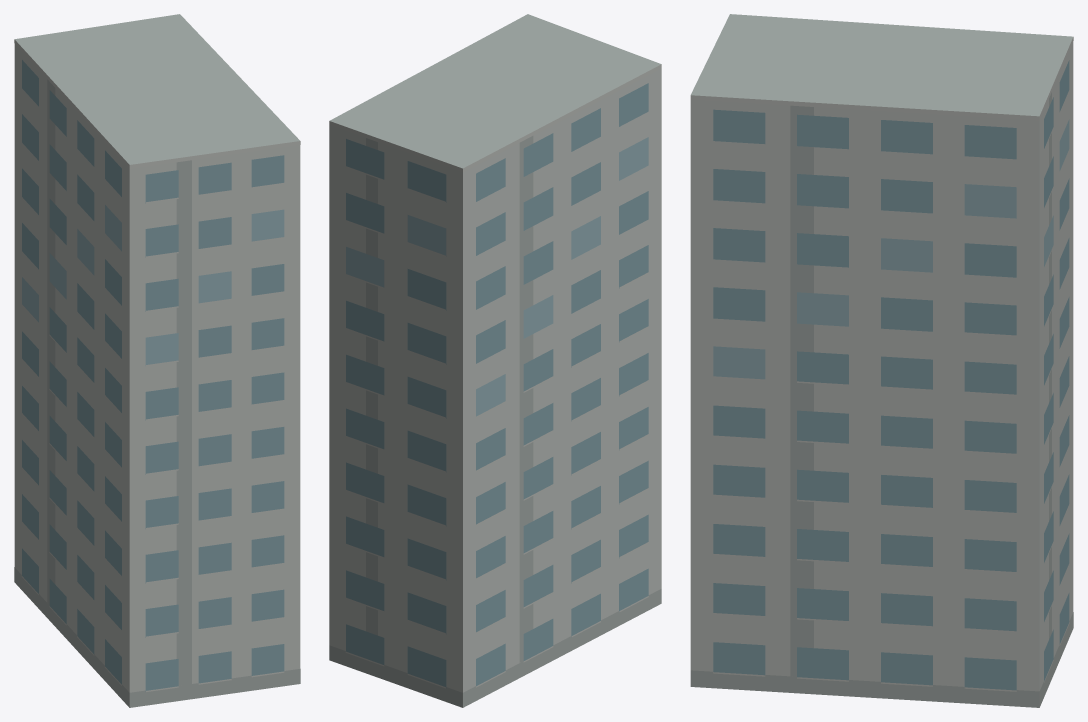
The model's file is residential-a5969568-1217-49d0-84b6-4d5bc961bded.glb.
3 views of the same model, side by side, from view 1: azimuth 30°, elevation 25°; view 2: azimuth 150°, elevation 25°; view 3: azimuth 270°, elevation 25° (orthographic). The views are drawn at different scales.
Parts seen in each view (by area): view 1: residential-a5969568-1217-49d0-84b6-4d5bc961bded.tmp; view 2: residential-a5969568-1217-49d0-84b6-4d5bc961bded.tmp; view 3: residential-a5969568-1217-49d0-84b6-4d5bc961bded.tmp.
Boxes of the visible parts, x1,y1,x2,y2 form: residential-a5969568-1217-49d0-84b6-4d5bc961bded.tmp: [14, 14, 300, 707]; residential-a5969568-1217-49d0-84b6-4d5bc961bded.tmp: [329, 14, 661, 707]; residential-a5969568-1217-49d0-84b6-4d5bc961bded.tmp: [690, 14, 1073, 707].
Bounding box in the file's own units: 12.25 × 33 × 19.37.
